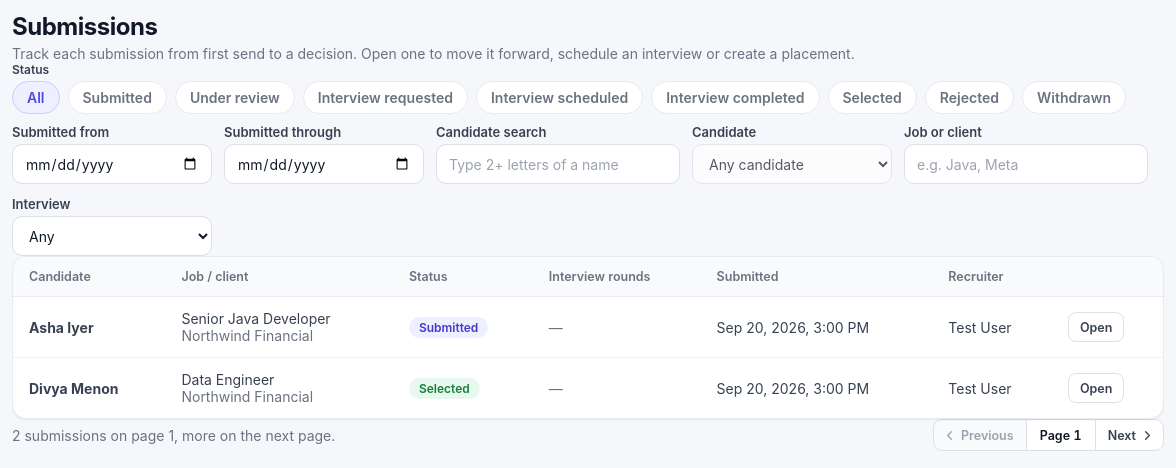
Test: Submissions list › refuses an inverted date range without querying
Type "2026-09-10" into the date field labelled "Submitted from" at x=112, y=164, box top-left (12, 144), bottom-right (212, 184)
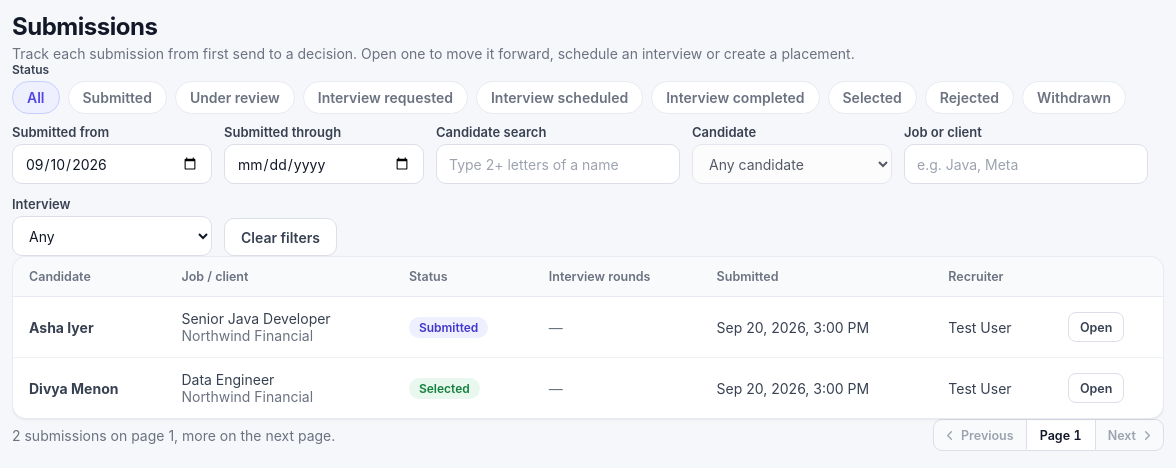
Type "2026-09-01" into the date field labelled "Submitted through" at x=324, y=164, box top-left (224, 144), bottom-right (424, 184)
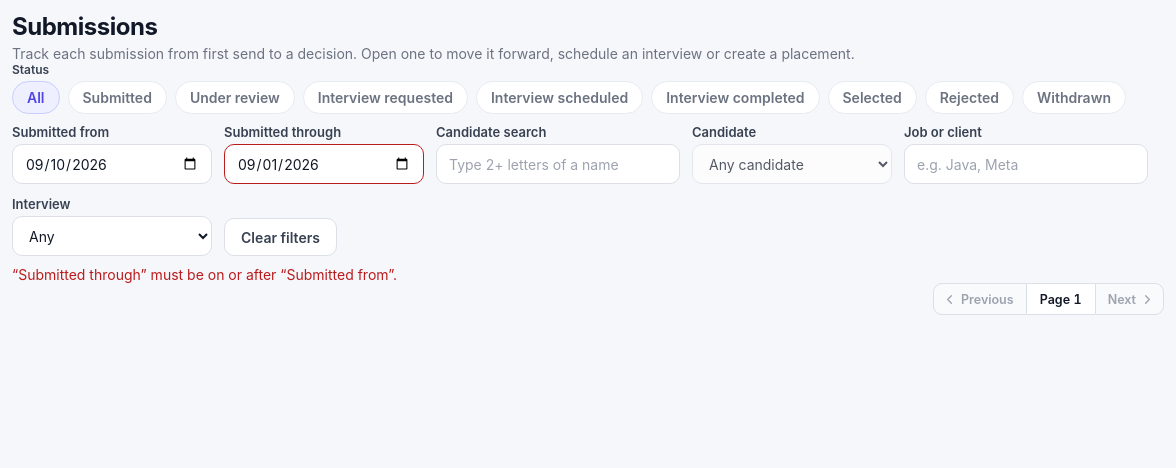
Check: the message shows "must be on or after", box top-left (12, 266), bottom-right (397, 283)
